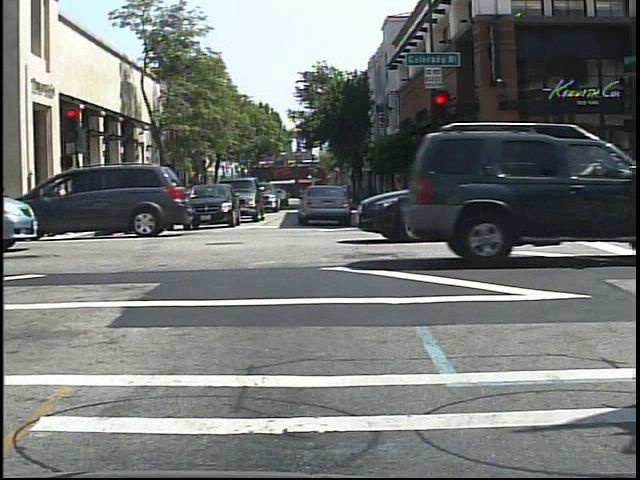person: (614, 152, 637, 224), (165, 181, 184, 221)
